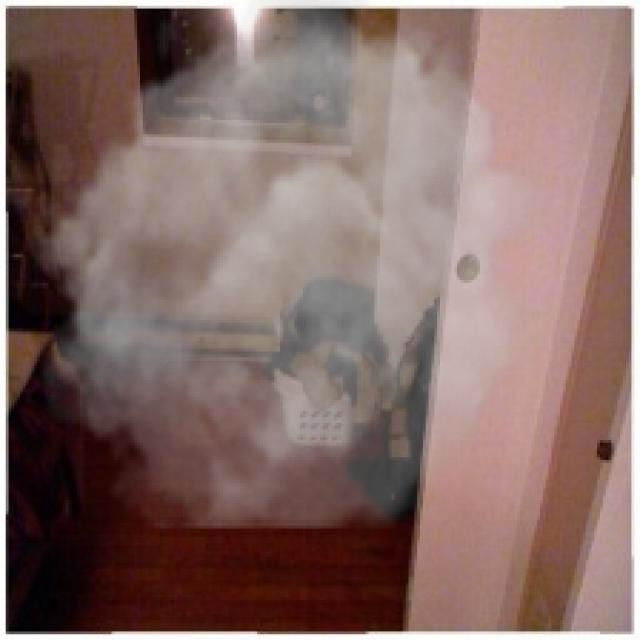smoke: (23, 0, 557, 529)
